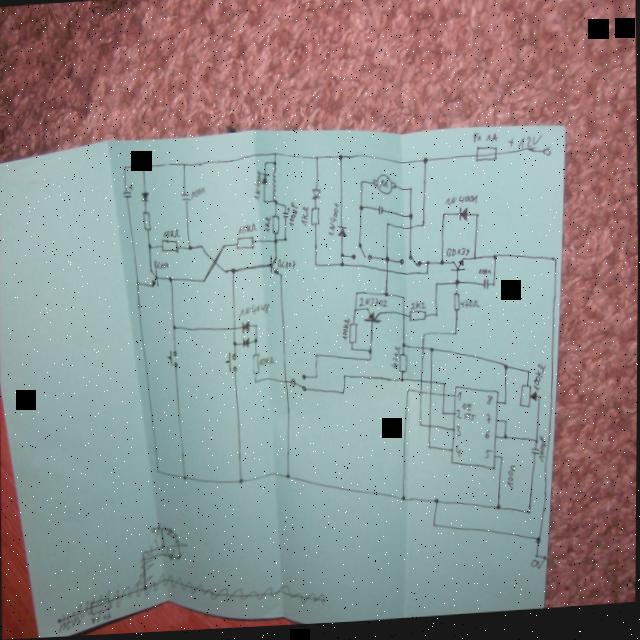capacitor: (121, 184, 132, 199), (178, 192, 189, 203), (281, 208, 289, 220), (530, 450, 539, 459), (482, 281, 488, 294), (376, 206, 382, 219)
crossover: (210, 258, 218, 267), (427, 392, 433, 400), (425, 425, 431, 433), (417, 391, 423, 398), (419, 347, 425, 353), (407, 227, 413, 233), (399, 314, 405, 320), (428, 382, 433, 388), (418, 380, 423, 386), (440, 395, 445, 401), (231, 326, 235, 333), (283, 380, 287, 386), (384, 271, 388, 277)
diode: (457, 209, 467, 226), (239, 321, 250, 336), (335, 226, 346, 240), (310, 188, 320, 201), (139, 190, 148, 203), (259, 173, 268, 186), (241, 338, 249, 350)
inductor: (269, 168, 276, 201)
junction: (534, 539, 540, 549), (336, 155, 343, 163), (167, 275, 173, 284), (237, 478, 243, 486), (146, 243, 152, 251), (357, 206, 363, 214), (407, 215, 413, 223), (421, 159, 427, 167), (453, 281, 459, 289), (383, 258, 389, 266), (502, 366, 508, 374), (231, 341, 237, 348), (251, 338, 257, 345), (284, 474, 290, 481), (186, 245, 192, 252), (180, 162, 186, 169), (428, 349, 434, 356), (451, 333, 457, 340), (490, 257, 496, 264), (494, 508, 500, 515), (229, 269, 235, 275), (383, 224, 389, 230), (398, 379, 404, 385), (271, 201, 277, 207), (272, 240, 278, 246), (432, 501, 438, 507), (382, 294, 388, 300), (438, 262, 443, 269), (502, 437, 507, 444), (405, 390, 410, 397), (154, 469, 159, 475), (170, 324, 175, 330), (220, 244, 225, 250), (358, 181, 363, 187), (313, 157, 318, 163), (419, 224, 424, 230), (121, 164, 126, 170), (366, 350, 371, 356), (420, 335, 425, 341), (471, 259, 476, 265), (338, 263, 343, 269), (338, 254, 343, 260), (270, 162, 275, 168), (282, 238, 287, 244), (526, 513, 531, 519), (400, 498, 405, 504), (502, 404, 507, 410), (253, 323, 257, 330), (440, 214, 444, 221), (474, 215, 478, 222), (401, 344, 405, 351), (424, 272, 428, 279), (499, 458, 503, 465), (353, 292, 357, 299), (352, 308, 356, 315), (253, 380, 257, 386), (182, 475, 186, 481), (134, 280, 138, 286), (200, 279, 204, 285), (199, 244, 203, 250), (223, 269, 227, 275), (407, 188, 411, 194), (140, 163, 144, 169), (313, 354, 317, 360), (342, 375, 346, 381), (340, 391, 344, 397), (434, 315, 438, 321), (425, 263, 429, 269), (553, 260, 557, 266), (313, 264, 317, 270), (431, 525, 435, 531), (440, 413, 444, 419), (426, 447, 430, 453), (417, 424, 421, 430), (533, 442, 537, 448), (401, 297, 405, 303), (442, 384, 446, 390), (281, 204, 285, 210), (491, 285, 495, 291), (349, 349, 353, 354), (367, 360, 371, 365), (433, 285, 437, 290), (261, 200, 265, 205), (262, 162, 266, 167), (534, 557, 538, 562), (502, 423, 506, 428), (525, 373, 529, 378), (313, 377, 317, 381), (272, 154, 276, 158)
resistor: (517, 387, 540, 412), (160, 238, 178, 255), (235, 237, 253, 252), (407, 312, 426, 325), (309, 207, 320, 228), (141, 209, 151, 232), (347, 324, 357, 347), (397, 355, 406, 376), (452, 294, 460, 316), (251, 354, 259, 376), (271, 215, 279, 236)
switch: (349, 243, 371, 264), (397, 256, 421, 271), (289, 375, 306, 394), (224, 352, 236, 374), (166, 349, 178, 369)
terminal: (540, 150, 550, 161), (542, 559, 546, 565)
text: (505, 137, 542, 154), (237, 303, 269, 320), (443, 196, 477, 210), (326, 205, 339, 239), (357, 297, 387, 311), (532, 367, 546, 395), (251, 170, 261, 202), (460, 405, 475, 425), (444, 249, 468, 261), (275, 258, 295, 272), (459, 300, 480, 313), (287, 202, 297, 229), (537, 438, 546, 467), (505, 468, 515, 494), (236, 224, 256, 236), (389, 348, 399, 372), (340, 319, 349, 344), (189, 186, 205, 200), (161, 228, 179, 239), (152, 258, 168, 270), (300, 206, 308, 228), (258, 357, 274, 368), (409, 303, 426, 313), (485, 135, 497, 148), (530, 562, 543, 574), (262, 217, 270, 235), (476, 270, 490, 280), (470, 135, 480, 147), (483, 452, 492, 462), (454, 447, 460, 460), (454, 428, 460, 441), (485, 398, 492, 409), (484, 416, 490, 428), (454, 412, 460, 423), (455, 394, 461, 405), (483, 433, 489, 443)
transistor: (362, 309, 381, 327), (268, 255, 281, 279), (449, 260, 465, 275), (148, 268, 158, 289)
